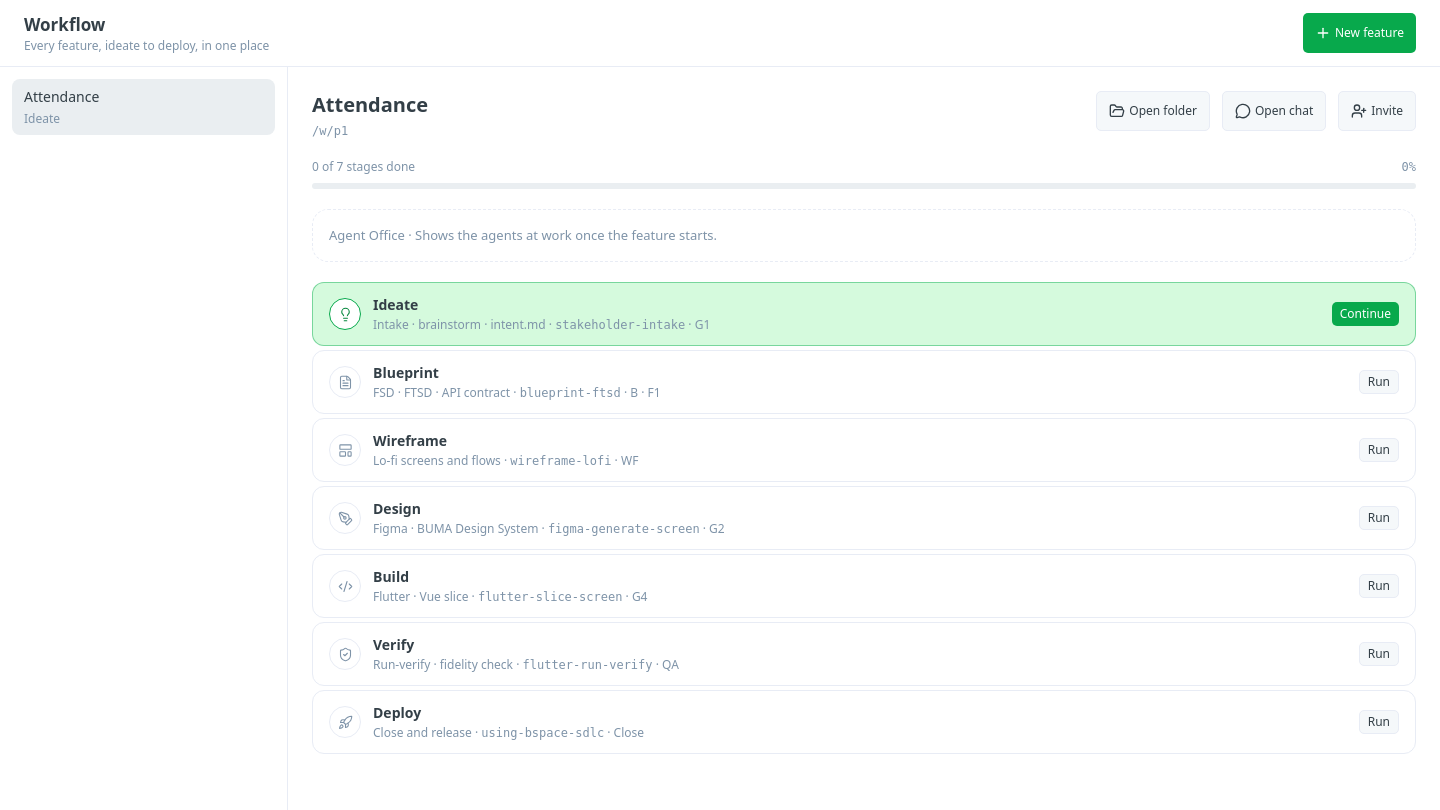
Test: Invite to a feature › a shared feature lists who was invited and removes someone
The width and height of the screenshot is (1440, 810).
Click the button "Invite": (1377, 110) [1338,90,1416,130]
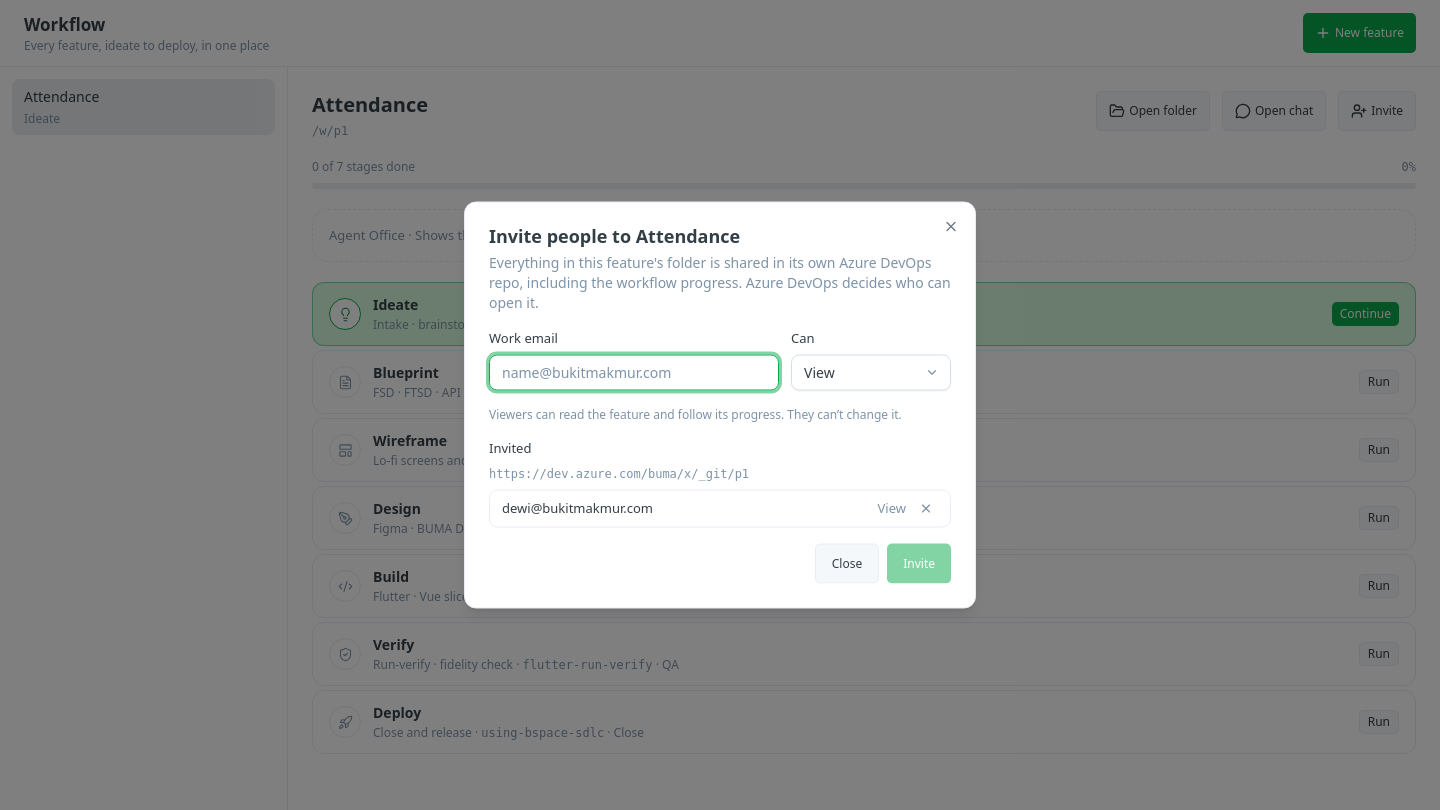
Click the button named "Remove dewi@bukitmakmur.com": (926, 508) [914,496,938,520]
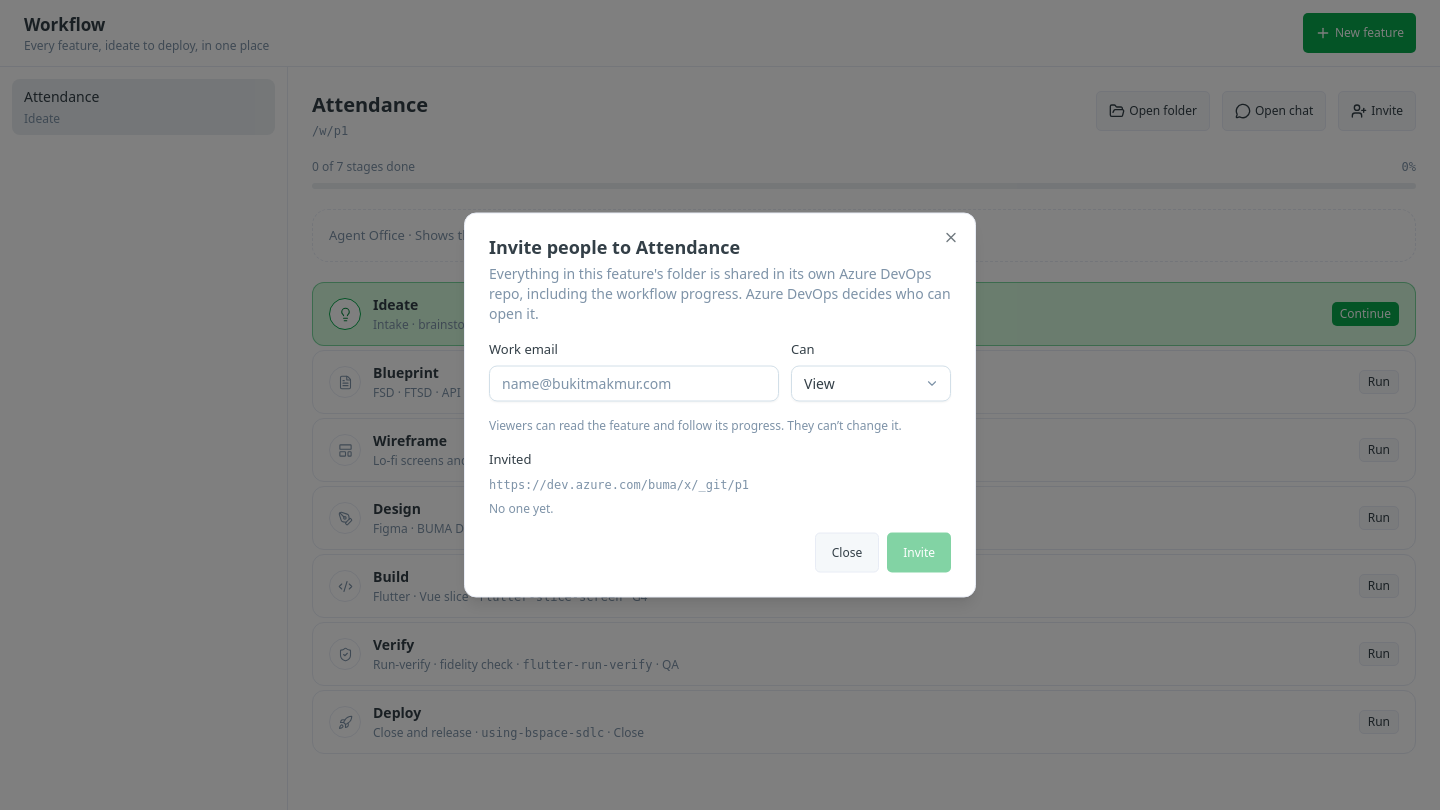
Check: the text "No one yet." is shown, box [489,500,554,516]
